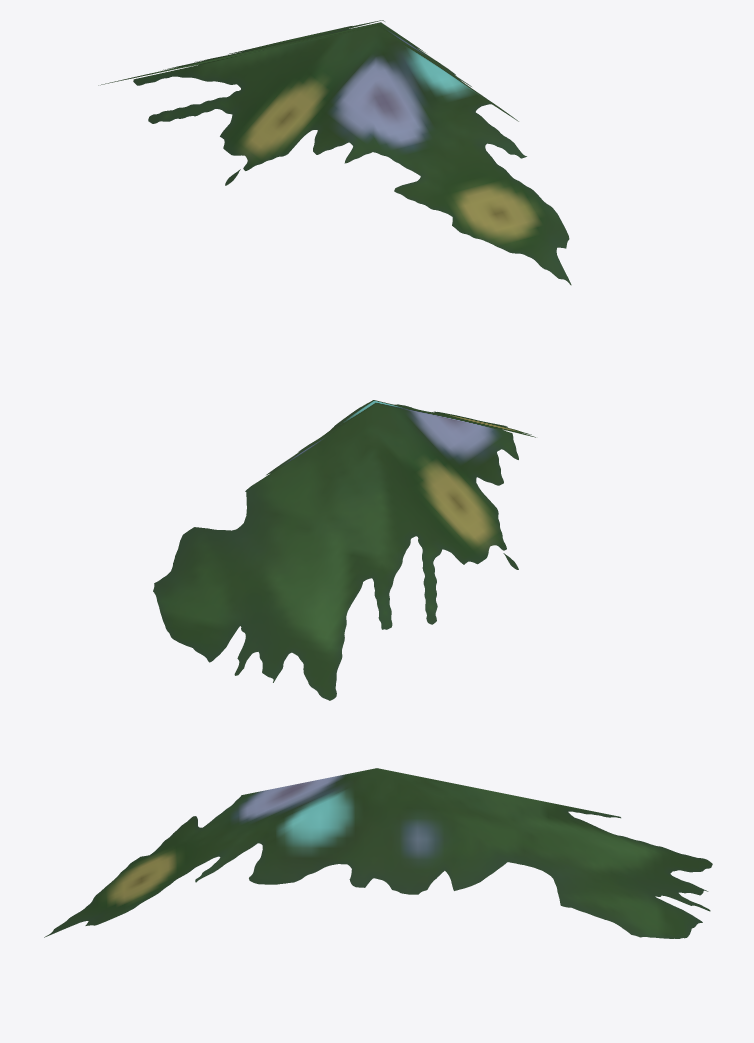
The model's file is forest_grass_04.FBX.
The picture shows the model from 3 angles, top to bottom: view 1: azimuth 30°, elevation 25°; view 2: azimuth 150°, elevation 25°; view 3: azimuth 270°, elevation 25°; orthographic projection. The views are drawn at different scales.
Parts seen in each view (by area): view 1: forest_grass_04; view 2: forest_grass_04; view 3: forest_grass_04.
Part boxes in pixels (x1,y1,x2,y2): forest_grass_04: [98, 20, 571, 285]; forest_grass_04: [153, 400, 535, 700]; forest_grass_04: [44, 768, 712, 938].
Size of the model in its own units: 82.38 by 34.02 by 134.
Materials: 1 (1 with a texture image).
